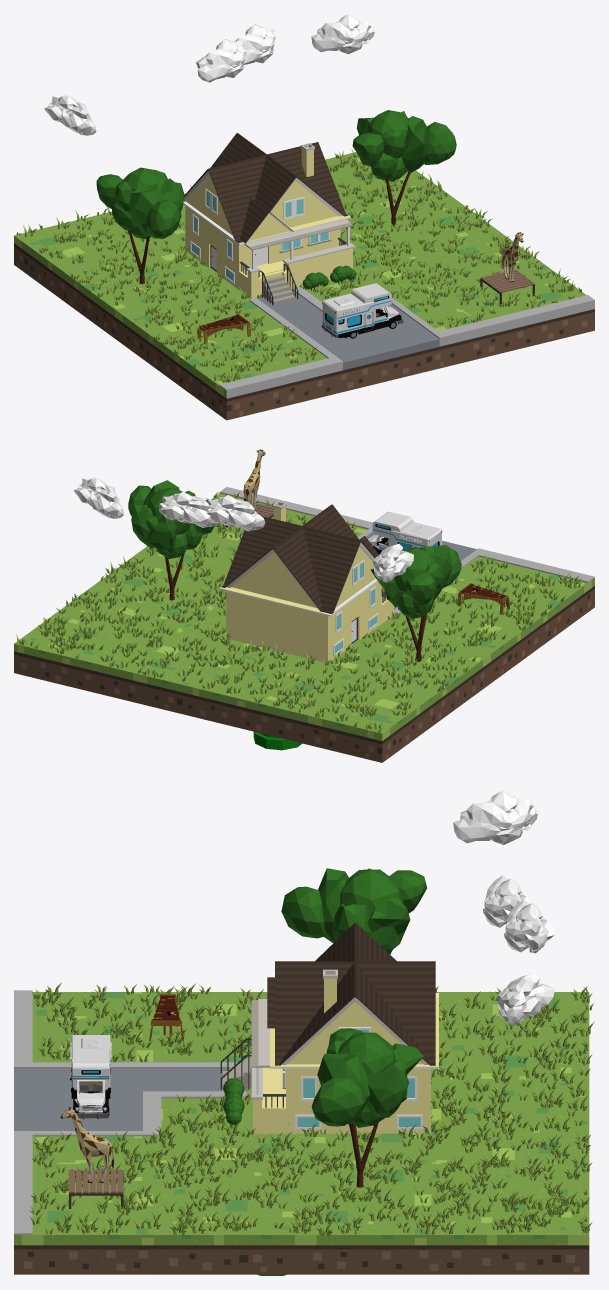
The picture shows the model from 3 angles, top to bottom: view 1: azimuth 30°, elevation 25°; view 2: azimuth 150°, elevation 25°; view 3: azimuth 270°, elevation 25°; orthographic projection. The views are drawn at different scales.
Parts seen in each view (by area): view 1: Cube.006, Cube.1555, Circle.012_Grass_0.192, Cube.007, tree, tree.001, VEHICLES_CAMPER, Cube.009, OBJRANDOM_MARIMBA, ANIMAL_JIRAFA; view 2: Cube.006, Cube.1555, Circle.012_Grass_0.192, Cube.007, tree.001, tree, VEHICLES_CAMPER, OBJRANDOM_MARIMBA, ANIMAL_JIRAFA, UNDERGROUND_PIPES; view 3: Cube.006, Circle.012_Grass_0.192, Cube.1555, tree, Cube.007, tree.001, VEHICLES_CAMPER, Cube.009, ANIMAL_JIRAFA, OBJRANDOM_MARIMBA.
Part boxes in pixels (box(x1,y1,x2,y2)): Cube.006: box(14, 152, 594, 420); Cube.1555: box(183, 133, 355, 305); Circle.012_Grass_0.192: box(16, 149, 581, 382); Cube.007: box(44, 14, 374, 135); tree: box(352, 110, 456, 226); tree.001: box(96, 167, 184, 284); VEHICLES_CAMPER: box(321, 283, 403, 338); Cube.009: box(480, 269, 534, 303); OBJRANDOM_MARIMBA: box(197, 313, 251, 344); ANIMAL_JIRAFA: box(501, 232, 523, 282); Cube.006: box(14, 487, 594, 762); Cube.1555: box(219, 501, 393, 662); Circle.012_Grass_0.192: box(16, 492, 581, 732); Cube.007: box(73, 477, 413, 582); tree.001: box(370, 545, 461, 661); tree: box(128, 480, 214, 600); VEHICLES_CAMPER: box(368, 511, 442, 554); OBJRANDOM_MARIMBA: box(457, 583, 509, 614); ANIMAL_JIRAFA: box(243, 449, 265, 509); UNDERGROUND_PIPES: box(253, 731, 302, 750); Cube.006: box(14, 990, 589, 1274); Circle.012_Grass_0.192: box(29, 982, 594, 1236); Cube.1555: box(220, 923, 438, 1133); tree: box(311, 1028, 423, 1187); Cube.007: box(453, 791, 554, 1025); tree.001: box(281, 868, 426, 954); VEHICLES_CAMPER: box(70, 1035, 111, 1119); Cube.009: box(69, 1169, 123, 1208); ANIMAL_JIRAFA: box(60, 1107, 113, 1183); OBJRANDOM_MARIMBA: box(149, 994, 183, 1041).
Size of the model in its own units: 4071 by 2759 by 4040.
41 materials, 3 textured.
